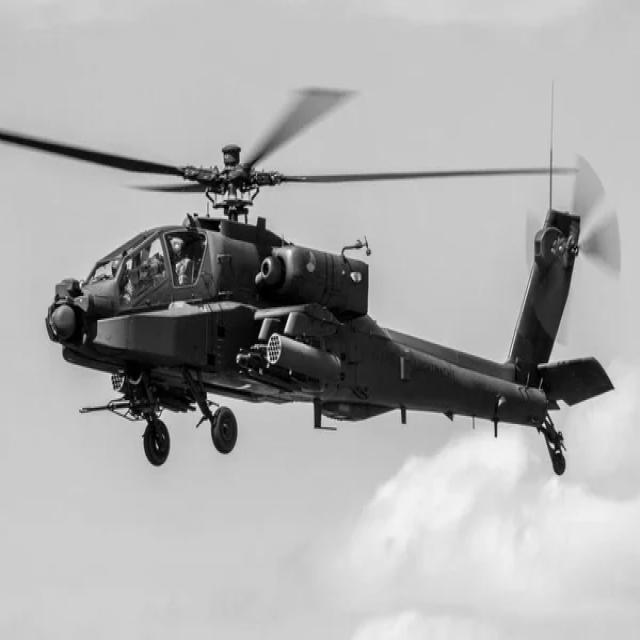Helicopter: (0, 87, 614, 474)
